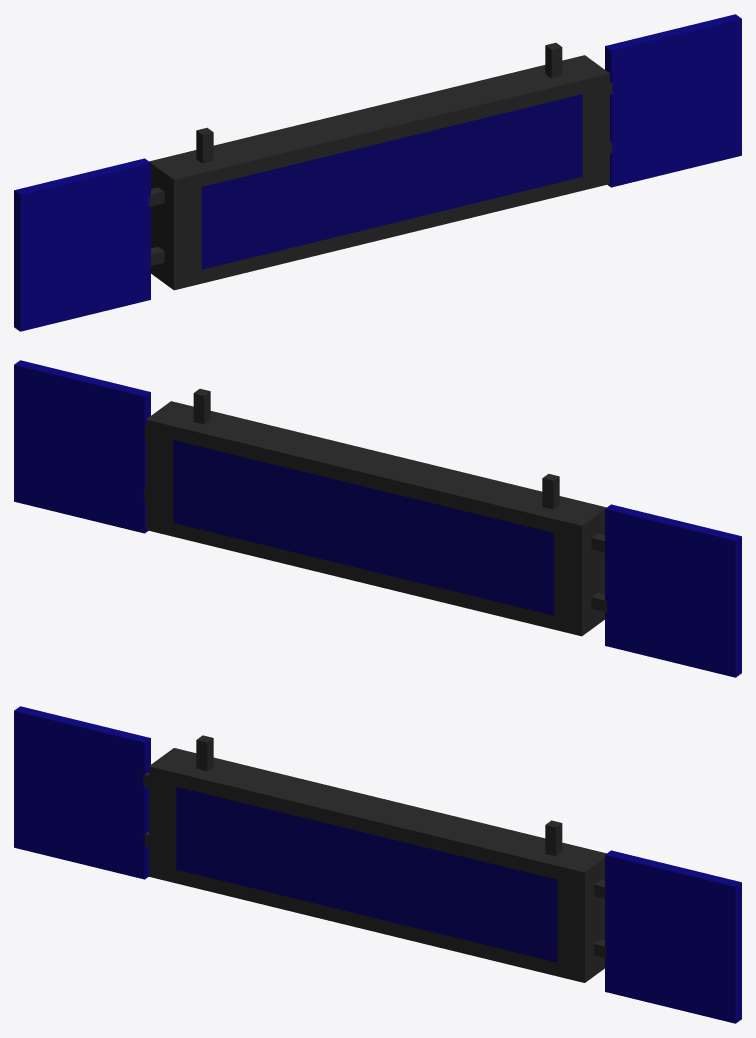
File: UG_Gleisschild.fbx
3 renders of one model, top to bottom at view 1: azimuth 30°, elevation 25°; view 2: azimuth 150°, elevation 25°; view 3: azimuth 330°, elevation 25°, orthographic.
Parts seen in each view (by area): view 1: Zuganzeige innen, Zuganzeige außen, Nummer L, Nummer R, Deckenhalterung; view 2: Zuganzeige innen, Zuganzeige außen, Nummer L, Nummer R, Deckenhalterung; view 3: Zuganzeige innen, Zuganzeige außen, Nummer R, Nummer L, Deckenhalterung.
Part boxes in pixels (x1=…): Zuganzeige innen: x1=201, y1=94, x2=582, y2=269; Zuganzeige außen: x1=149, y1=55, x2=609, y2=290; Nummer L: x1=14, y1=158, x2=150, y2=331; Nummer R: x1=605, y1=14, x2=741, y2=187; Deckenhalterung: x1=196, y1=42, x2=562, y2=163; Zuganzeige innen: x1=173, y1=440, x2=554, y2=615; Zuganzeige außen: x1=146, y1=401, x2=606, y2=636; Nummer L: x1=605, y1=504, x2=741, y2=677; Nummer R: x1=14, y1=360, x2=150, y2=533; Deckenhalterung: x1=193, y1=388, x2=559, y2=509; Zuganzeige innen: x1=176, y1=787, x2=557, y2=962; Zuganzeige außen: x1=149, y1=748, x2=606, y2=982; Nummer R: x1=605, y1=850, x2=741, y2=1023; Nummer L: x1=14, y1=706, x2=150, y2=879; Deckenhalterung: x1=196, y1=735, x2=562, y2=856.
Size of the model in its own units: 331 by 66.75 by 20.
